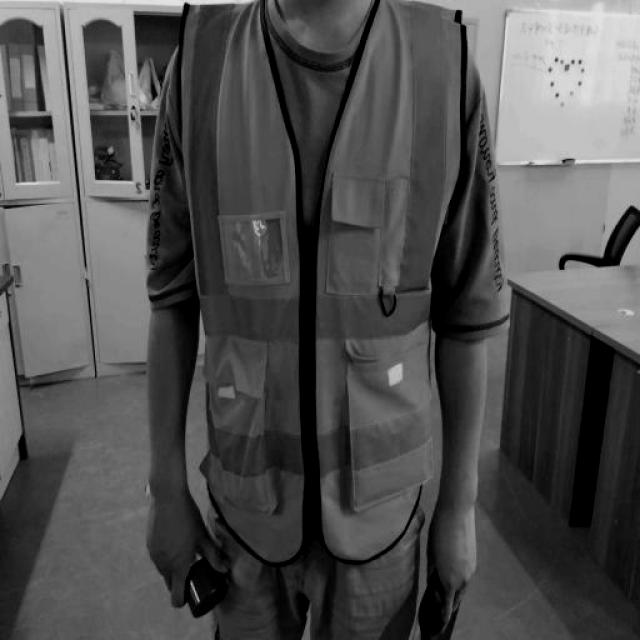hand_noglove: (133, 477, 236, 609), (416, 520, 486, 630)
vest: (166, 0, 466, 565)
